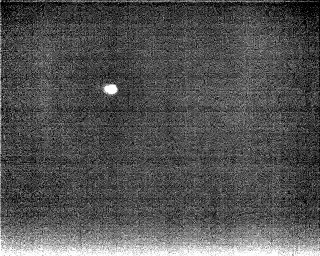AIRPLANE: (101, 81, 120, 98)
